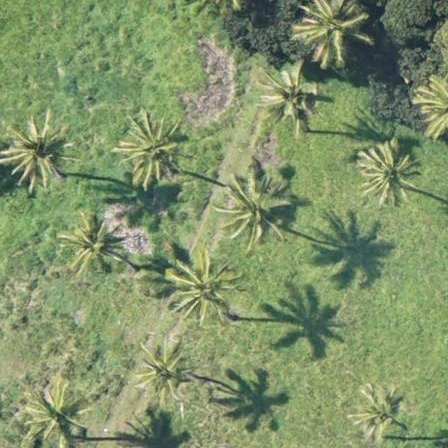palm_tree: (3, 116, 68, 190), (217, 174, 286, 243), (22, 377, 86, 448), (119, 119, 185, 185), (166, 255, 234, 319), (356, 143, 420, 206), (62, 217, 124, 278), (304, 1, 366, 56), (132, 340, 189, 398), (349, 384, 404, 442), (258, 67, 312, 120)
